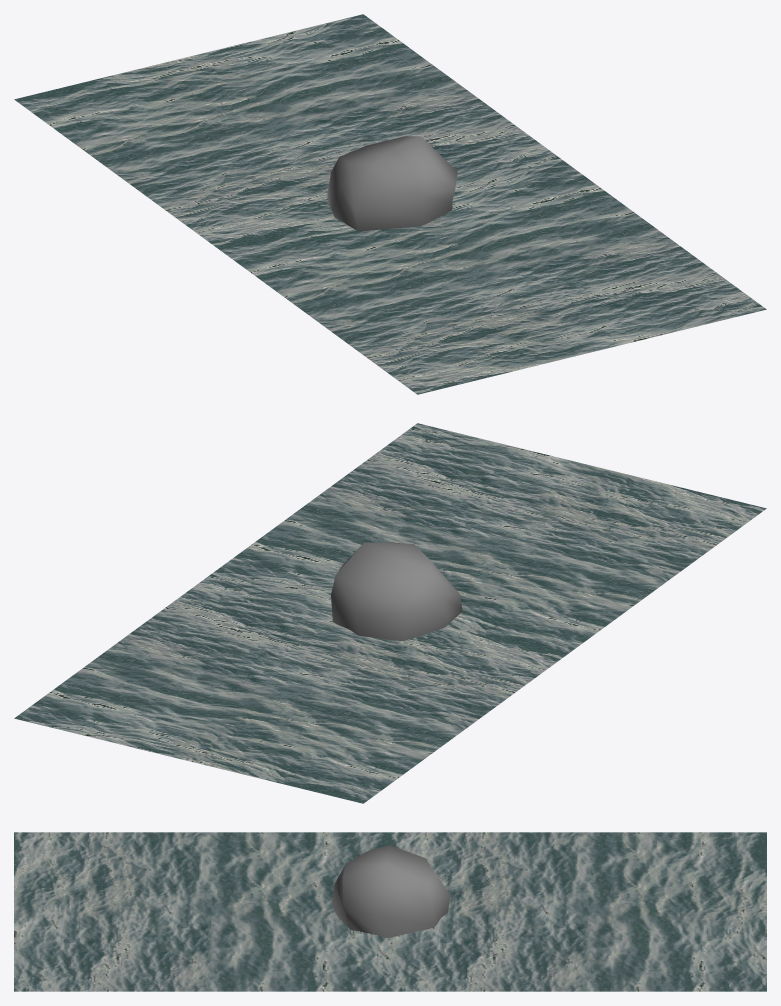
The model's file is props.glb.
3 renders of one model, top to bottom at view 1: azimuth 30°, elevation 25°; view 2: azimuth 150°, elevation 25°; view 3: azimuth 270°, elevation 25°, orthographic. The views are drawn at different scales.
Parts seen in each view (by area): view 1: sea, Rock A; view 2: sea, Rock A; view 3: sea, Rock A.
Part boxes in pixels (bbox=[...]): sea: bbox=[14, 14, 766, 394]; Rock A: bbox=[327, 136, 457, 231]; sea: bbox=[14, 423, 766, 803]; Rock A: bbox=[331, 542, 462, 640]; sea: bbox=[14, 832, 766, 991]; Rock A: bbox=[331, 845, 450, 938].
Size of the model in its own units: 20 by 5.73 by 40.
Materials: 2 (1 with a texture image).
